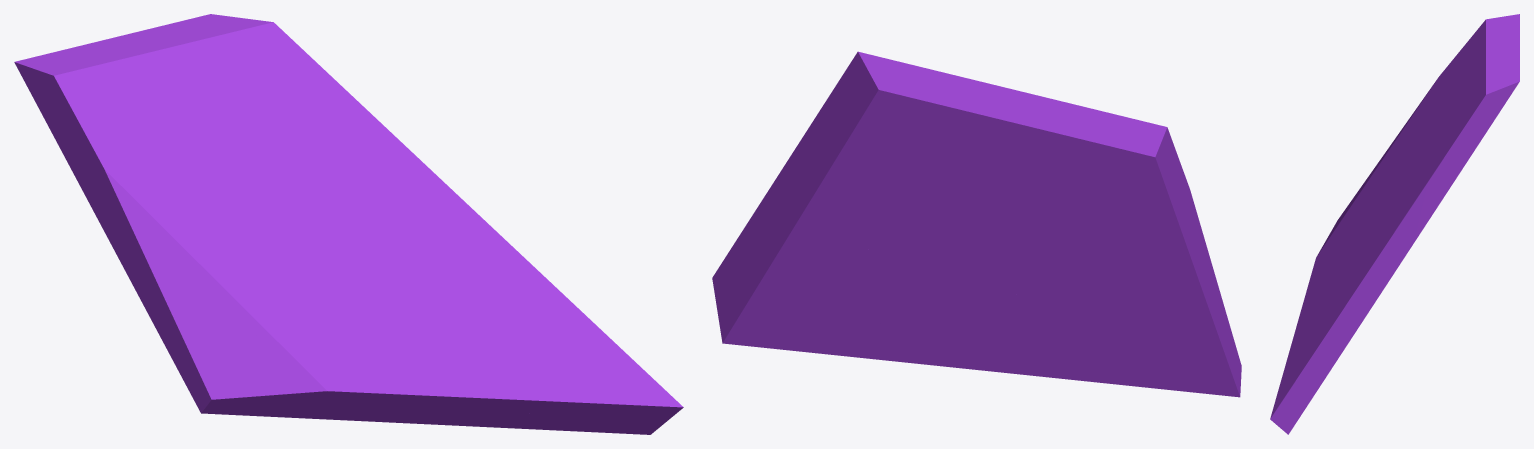
Rendered from Window_85_2_chunks.fbx.
The picture shows the model from 3 angles, left to right: view 1: azimuth 30°, elevation 25°; view 2: azimuth 150°, elevation 25°; view 3: azimuth 270°, elevation 25°; orthographic projection. The views are drawn at different scales.
Visible parts, largest first — view 1: Window_85_2_1, Window_85_2_0, Window_85_2_6, Window_85_2_2, Window_85_2_7, Window_85_2_8, Window_85_2_3, Window_85_2_9, Window_85_2_5; view 2: Window_85_2_1, Window_85_2_7, Window_85_2_2, Window_85_2_6, Window_85_2_4, Window_85_2_3, Window_85_2_0, Window_85_2_8, Window_85_2_9; view 3: Window_85_2_1, Window_85_2_7, Window_85_2_6, Window_85_2_9, Window_85_2_0, Window_85_2_8, Window_85_2_2, Window_85_2_5, Window_85_2_3.
Part boxes in pixels (left/top/right/bottom): Window_85_2_1: left=14, top=14, right=301, bottom=237; Window_85_2_0: left=101, top=162, right=292, bottom=344; Window_85_2_6: left=273, top=49, right=403, bottom=297; Window_85_2_2: left=306, top=276, right=556, bottom=430; Window_85_2_7: left=470, top=249, right=683, bottom=434; Window_85_2_8: left=357, top=273, right=605, bottom=430; Window_85_2_3: left=159, top=325, right=333, bottom=419; Window_85_2_9: left=383, top=126, right=514, bottom=296; Window_85_2_5: left=218, top=254, right=325, bottom=346; Window_85_2_1: left=845, top=51, right=1197, bottom=281; Window_85_2_7: left=712, top=185, right=902, bottom=353; Window_85_2_2: left=831, top=268, right=1093, bottom=381; Window_85_2_6: left=808, top=68, right=995, bottom=287; Window_85_2_4: left=972, top=253, right=1221, bottom=342; Window_85_2_3: left=1083, top=324, right=1241, bottom=397; Window_85_2_0: left=1100, top=186, right=1229, bottom=337; Window_85_2_8: left=820, top=276, right=938, bottom=354; Window_85_2_9: left=772, top=112, right=818, bottom=197; Window_85_2_1: left=1404, top=14, right=1519, bottom=163; Window_85_2_7: left=1270, top=238, right=1416, bottom=434; Window_85_2_6: left=1354, top=117, right=1470, bottom=245; Window_85_2_9: left=1343, top=182, right=1427, bottom=285; Window_85_2_0: left=1361, top=73, right=1441, bottom=191; Window_85_2_8: left=1280, top=235, right=1360, bottom=382; Window_85_2_2: left=1293, top=214, right=1366, bottom=337; Window_85_2_5: left=1338, top=189, right=1380, bottom=231; Window_85_2_3: left=1315, top=186, right=1361, bottom=259.
Bounding box in the file's own units: 823 × 587 × 514.
